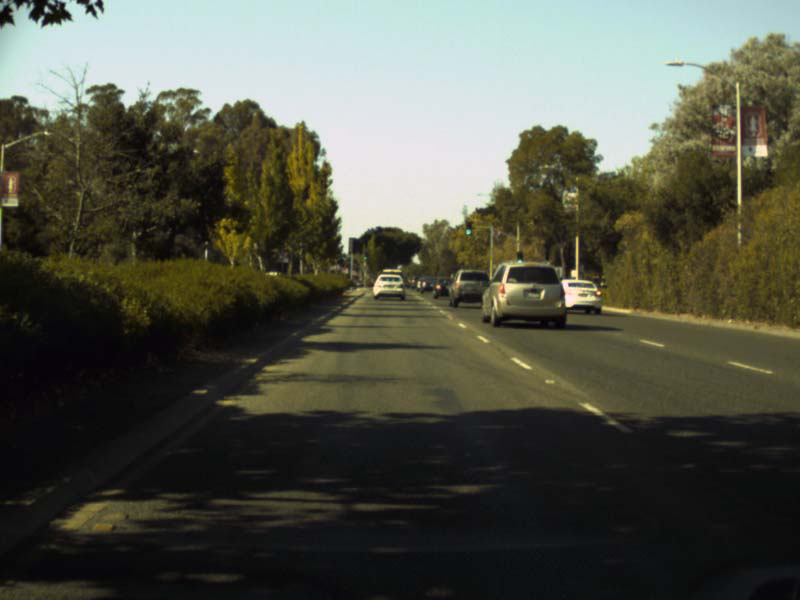Green: (466, 220, 472, 235), (515, 251, 523, 261), (363, 251, 368, 261)
